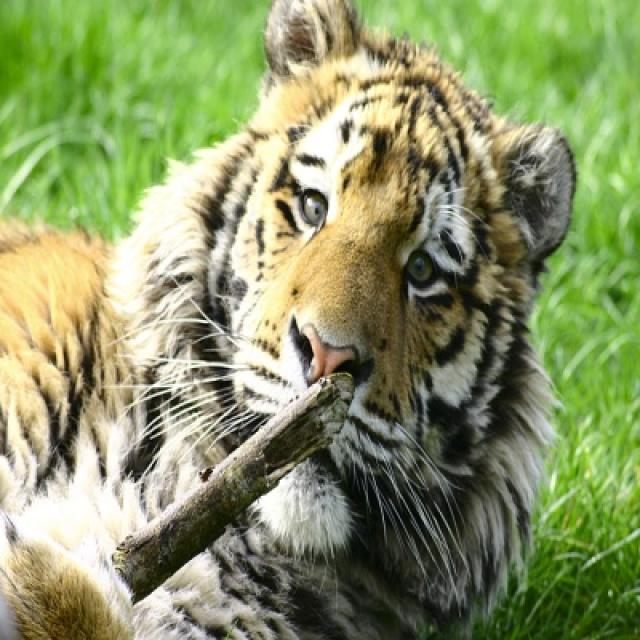Tiger: (0, 0, 577, 638)
